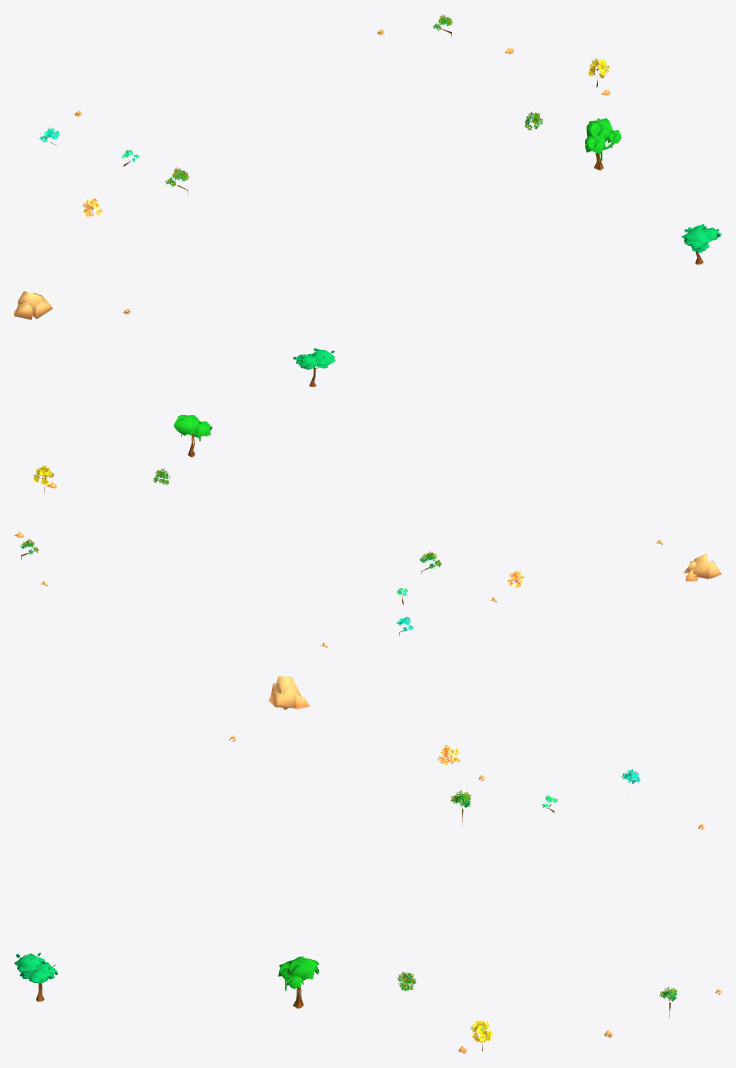
File: treev3.glb
3 renders of one model, top to bottom at view 1: azimuth 30°, elevation 25°; view 2: azimuth 150°, elevation 25°; view 3: azimuth 270°, elevation 25°, orthographic. The views are drawn at different scales.
Visible parts, largest first — view 1: small tree, big tree; view 2: small tree, big tree; view 3: small tree, big tree.
Part boxes in pixels (x1,y1,x2,y2): small tree: (14, 14, 610, 319); big tree: (585, 118, 721, 264); small tree: (14, 465, 721, 647); big tree: (173, 348, 335, 457); small tree: (229, 676, 721, 1053); big tree: (14, 952, 318, 1008).
Bounding box in the file's own units: 2219 × 146 × 1812.
Materials: 2 (2 with a texture image).
